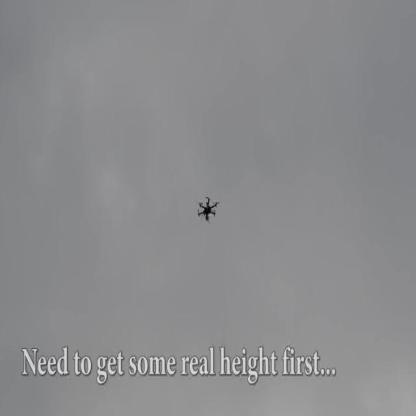drone: (194, 195, 220, 222)
